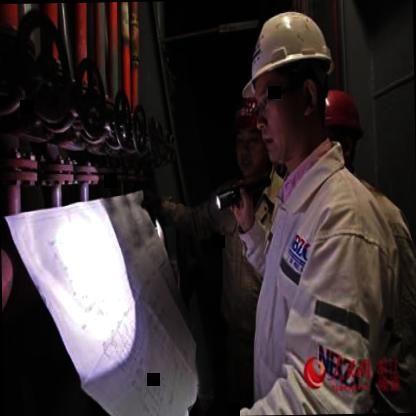helmet: (236, 0, 334, 173), (318, 84, 364, 162), (231, 91, 267, 172)
